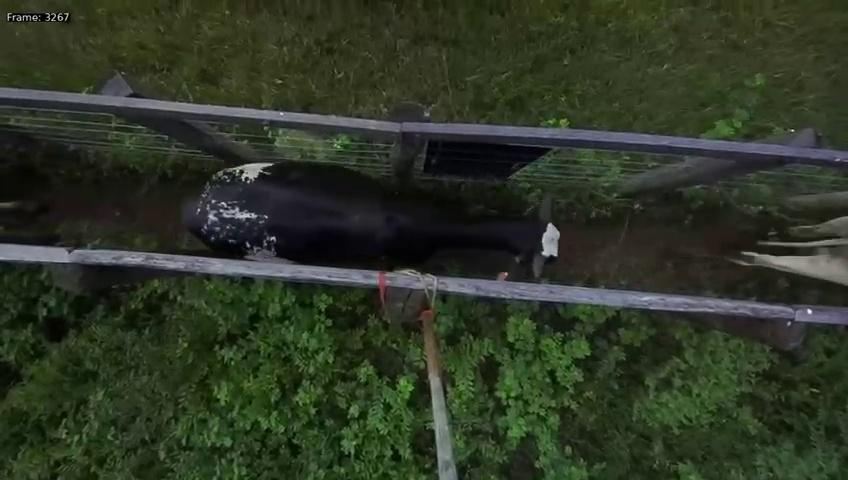cattle: (174, 150, 569, 296)
